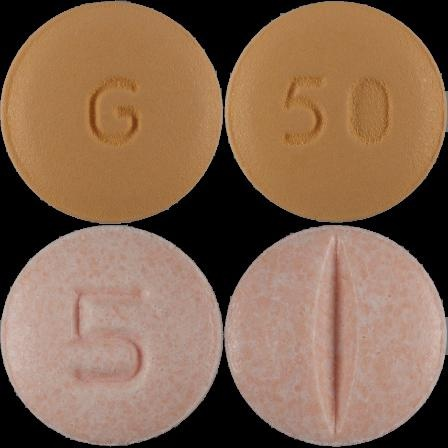68788-6366: (0, 0, 224, 224)
